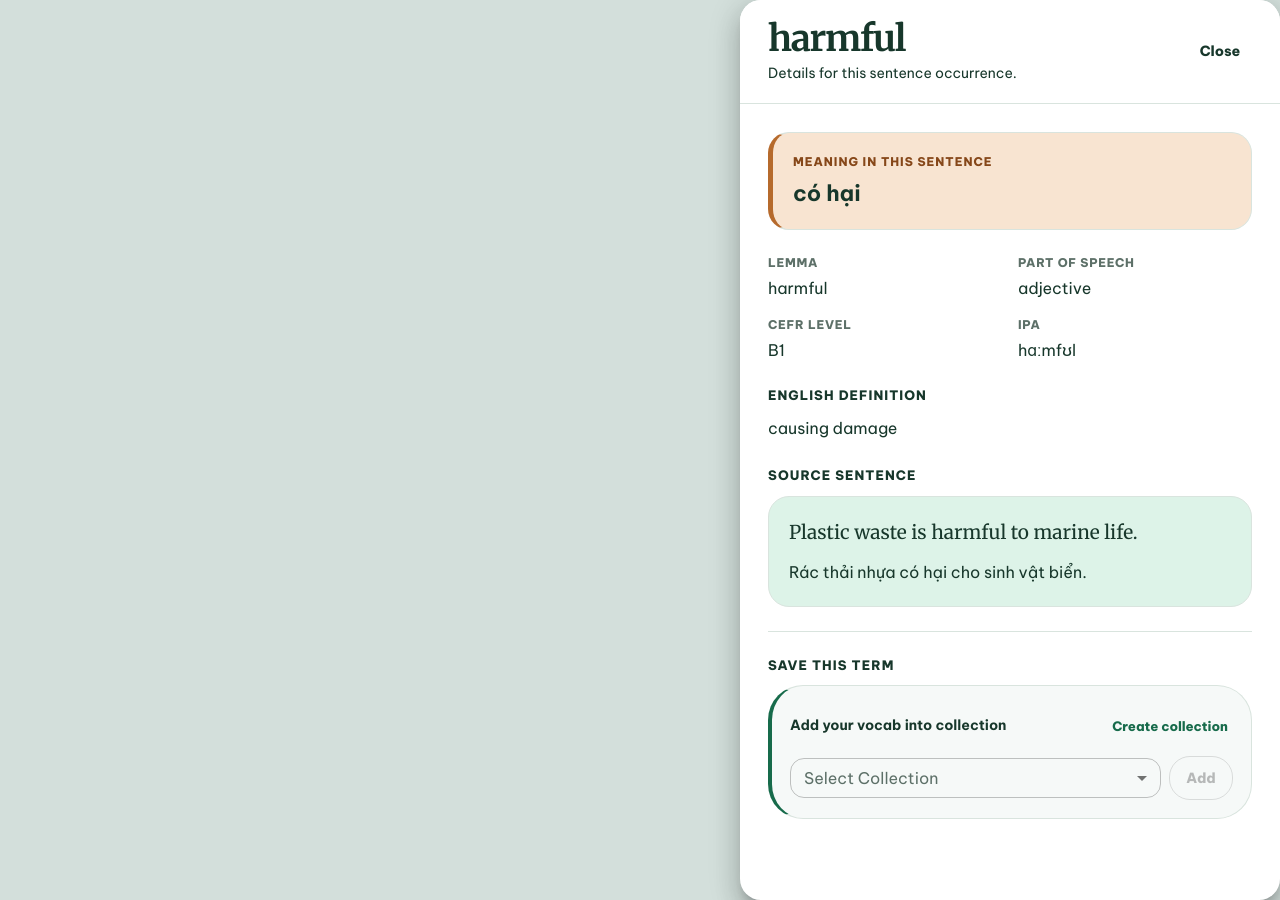
Test: Save Vocabulary with Collections › allows adding an already saved word to additional collections
Expected: the heading "Add your vocab into collection" is shown, x1=790 y1=715 x2=1006 y2=737
Click the dropdown.
click(976, 778)  # box x1=790 y1=758 x2=1161 y2=798
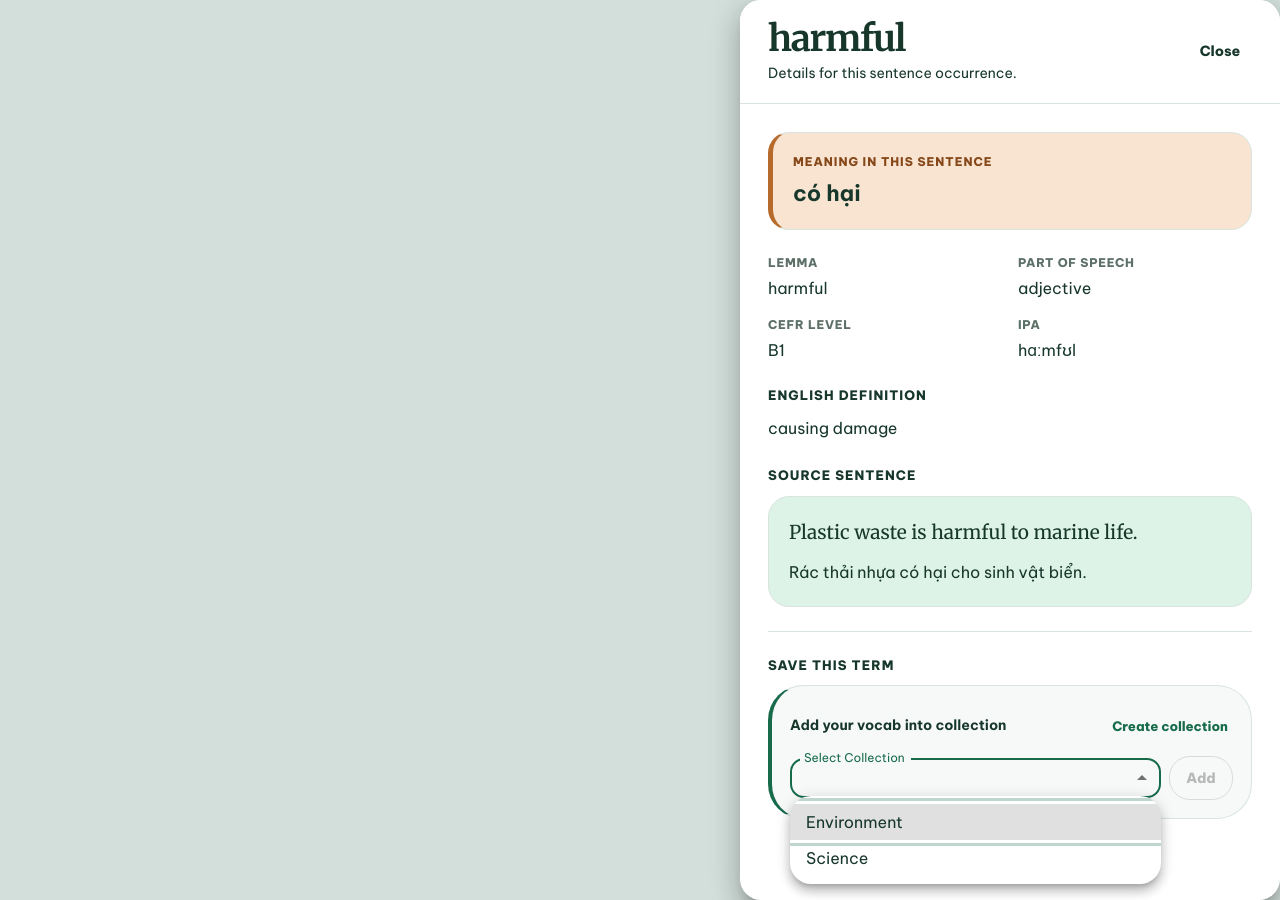
Click the option "Science".
click(837, 858)  # box x1=806 y1=848 x2=868 y2=868
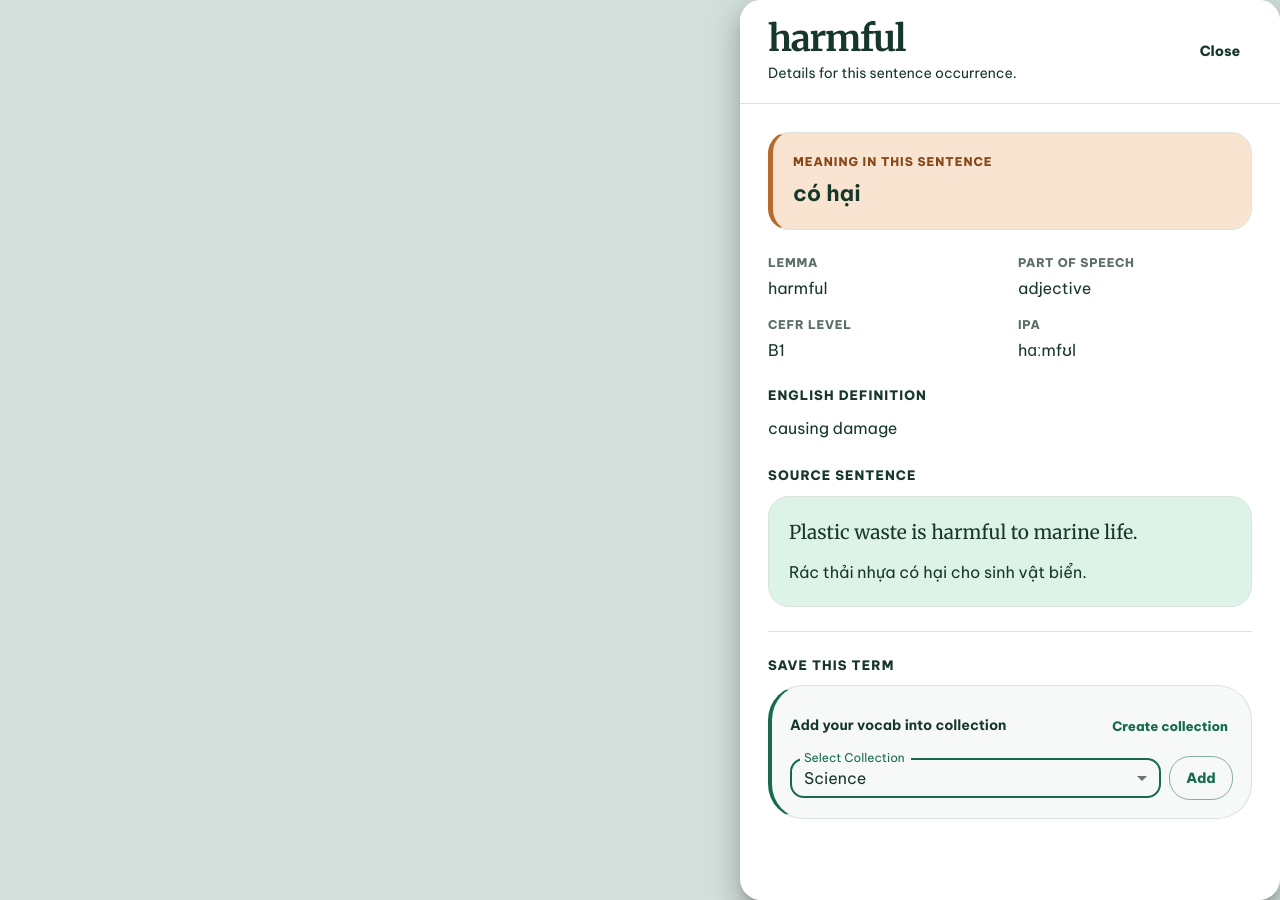
Click the button "Add".
click(1201, 778)  # box x1=1169 y1=756 x2=1233 y2=800
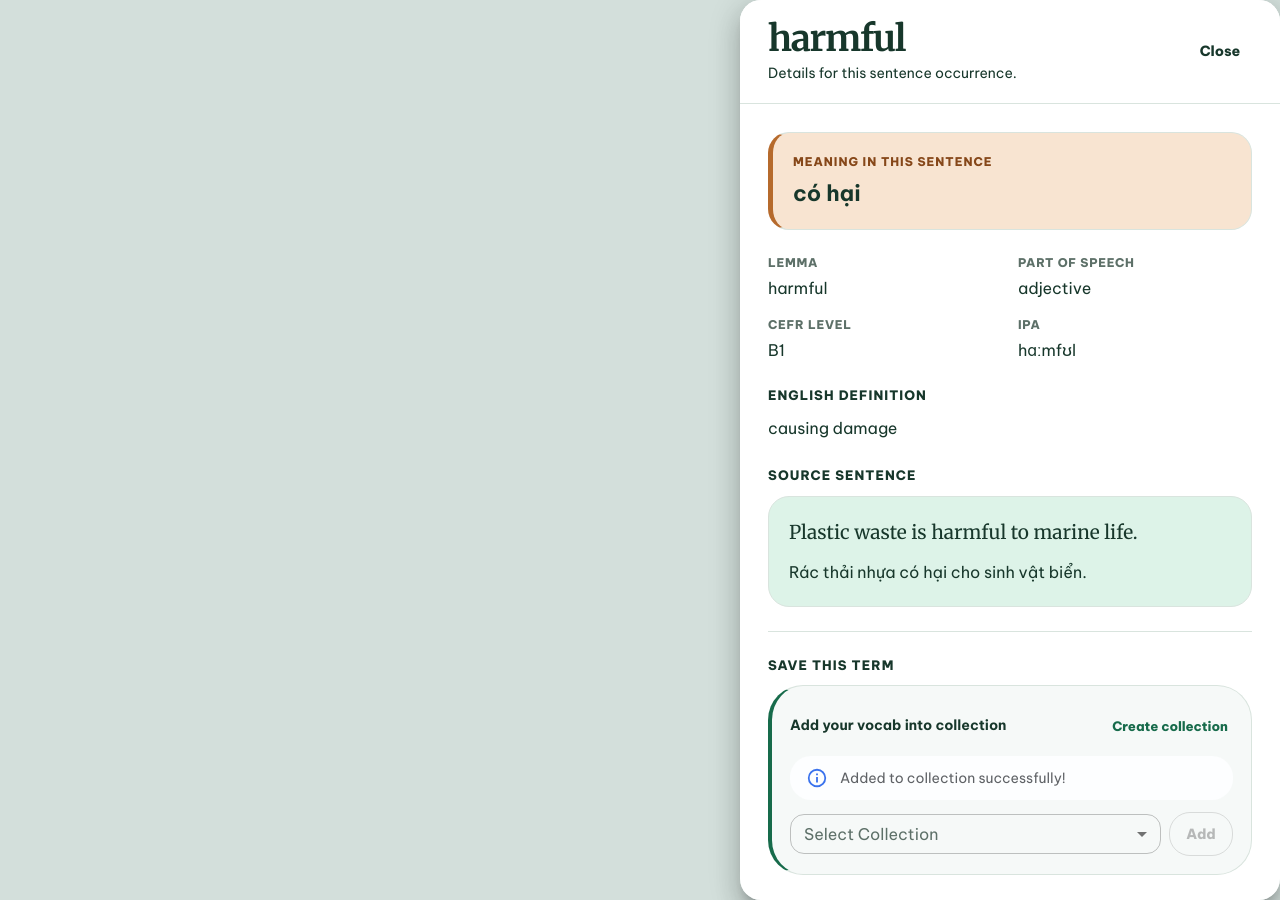
Result: the text "Added to collection successfully!" is shown at x1=840 y1=769 x2=1066 y2=787
